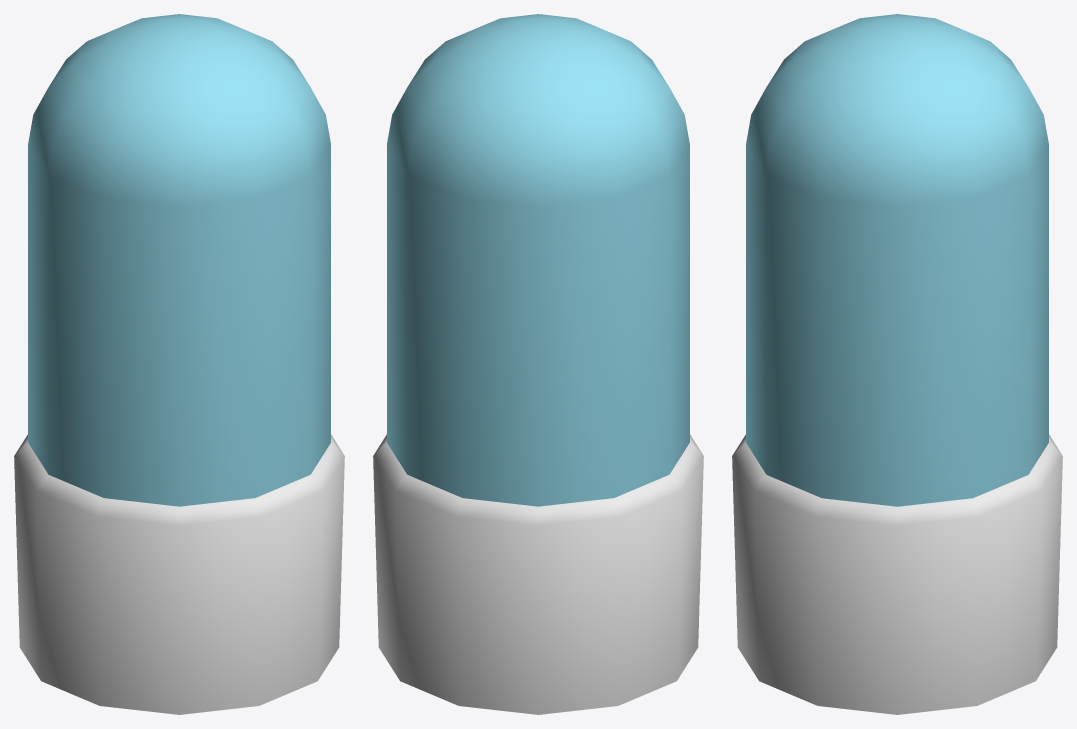
Rendered from pod-big.FBX.
3 renders of one model, left to right at view 1: azimuth 30°, elevation 25°; view 2: azimuth 150°, elevation 25°; view 3: azimuth 270°, elevation 25°, orthographic.
Visible parts, largest first — view 1: Glass Top, Pod Bottom; view 2: Glass Top, Pod Bottom; view 3: Glass Top, Pod Bottom.
Boxes of the visible parts, x1,y1,x2,y2 form: Glass Top: (28,14,330,506); Pod Bottom: (14,434,344,714); Glass Top: (387,14,689,506); Pod Bottom: (373,434,703,714); Glass Top: (746,14,1048,506); Pod Bottom: (732,434,1062,714).
Bounding box in the file's own units: 5.39 × 11.09 × 5.39.
